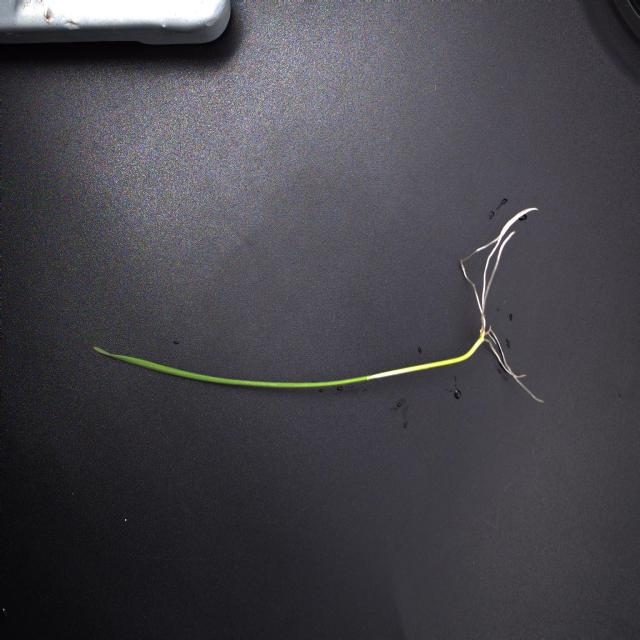leaf: (89, 343, 368, 393)
root: (461, 205, 544, 406)
steb: (366, 330, 485, 382)
